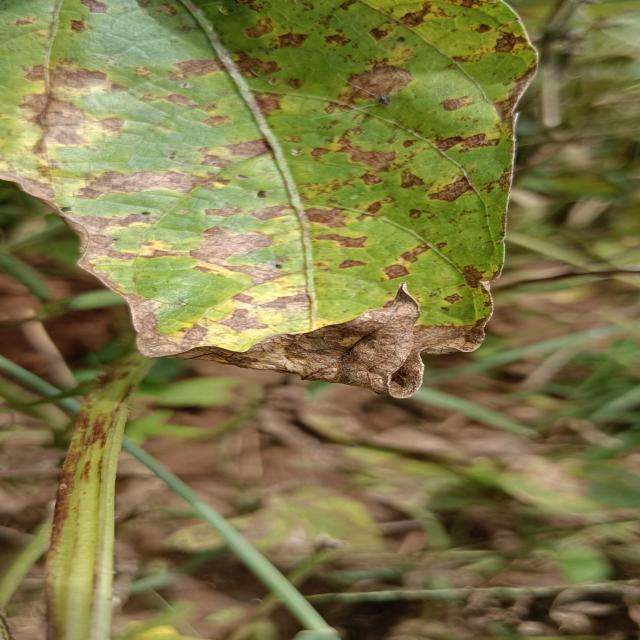Black gram_leaf spot: (0, 0, 562, 407)
